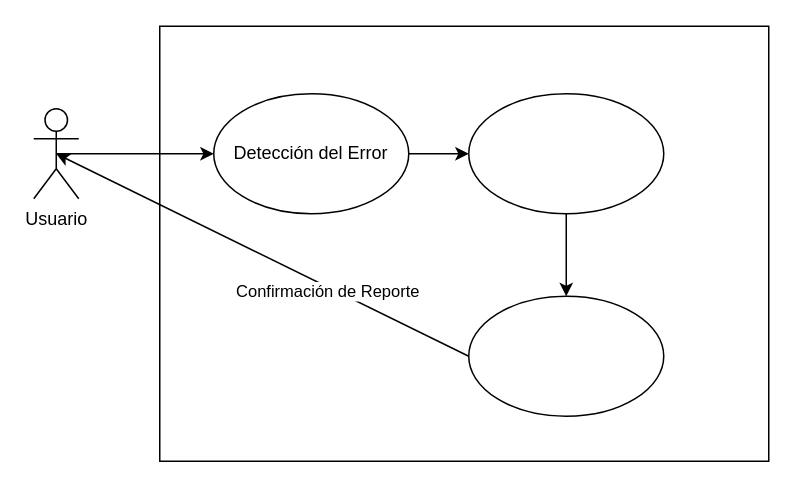
The diagram is 795 pixels wide and 488 high, and some of its shapes have lost their labels. The shapes that lost their labels are listed below. From the top down, each one's centre as x and y in pixels, then its label:
point (565, 153): Acceso al Sistema de Reportes
point (565, 355): Envío de Reporte
